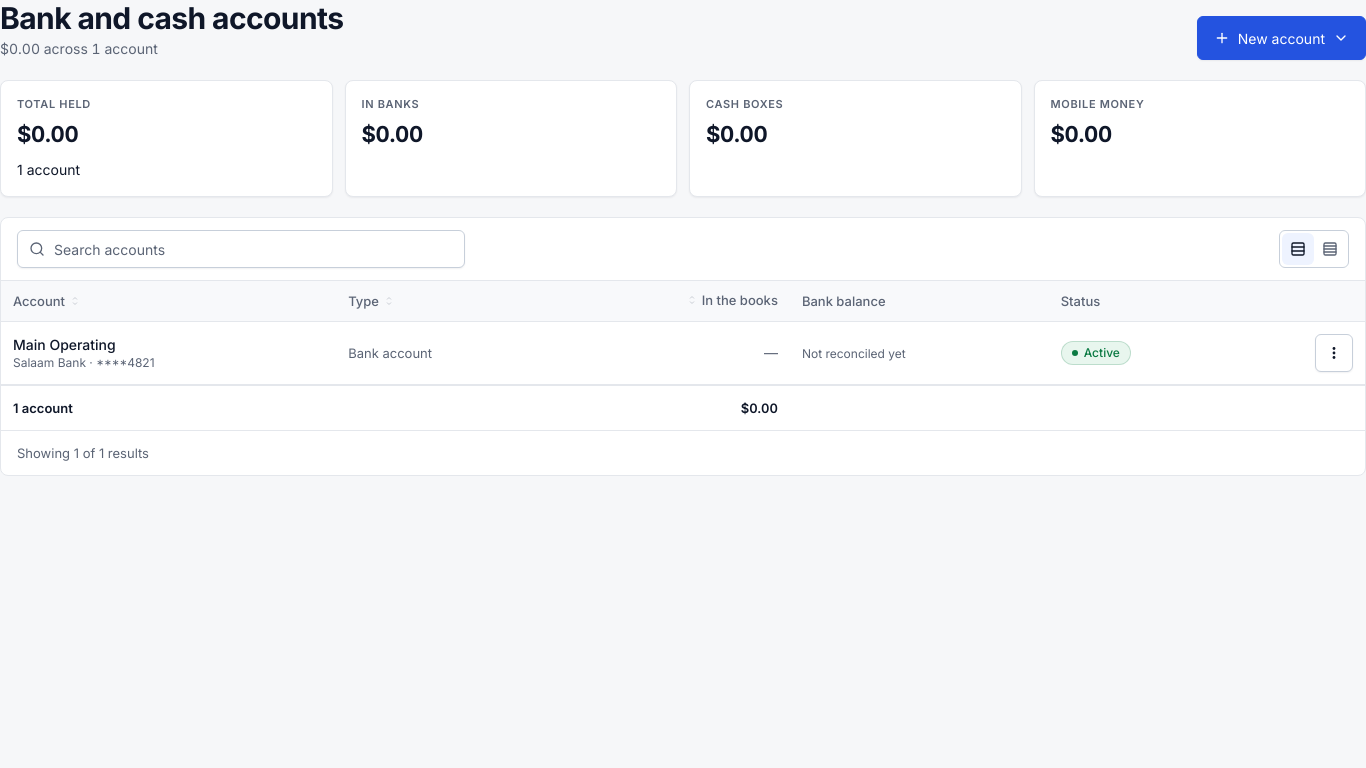
Test case: configure form › explains a chart with no cash account instead of an empty picker
Click the button "New account": x=1281, y=38 [1197,16,1365,60]
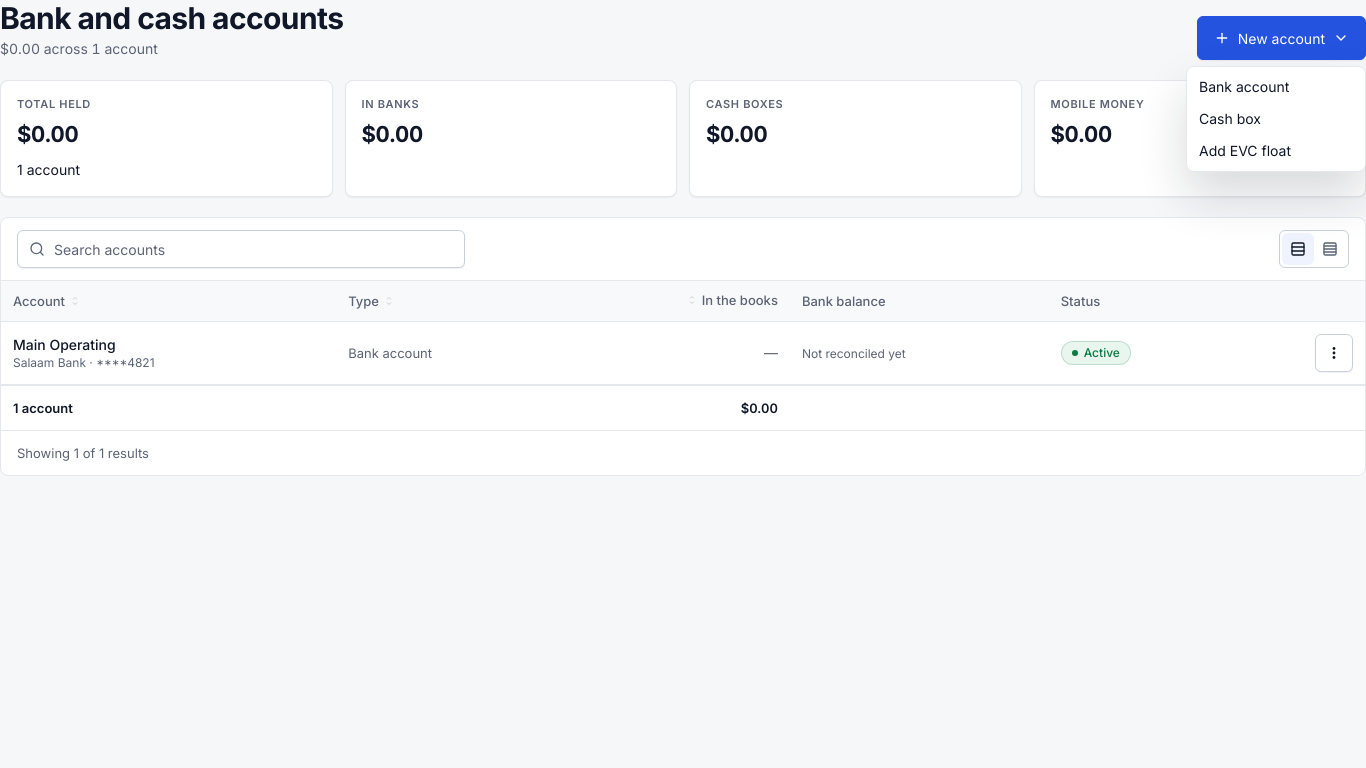
Click the menu item "Bank account": x=1244, y=86 [1199,78,1289,95]
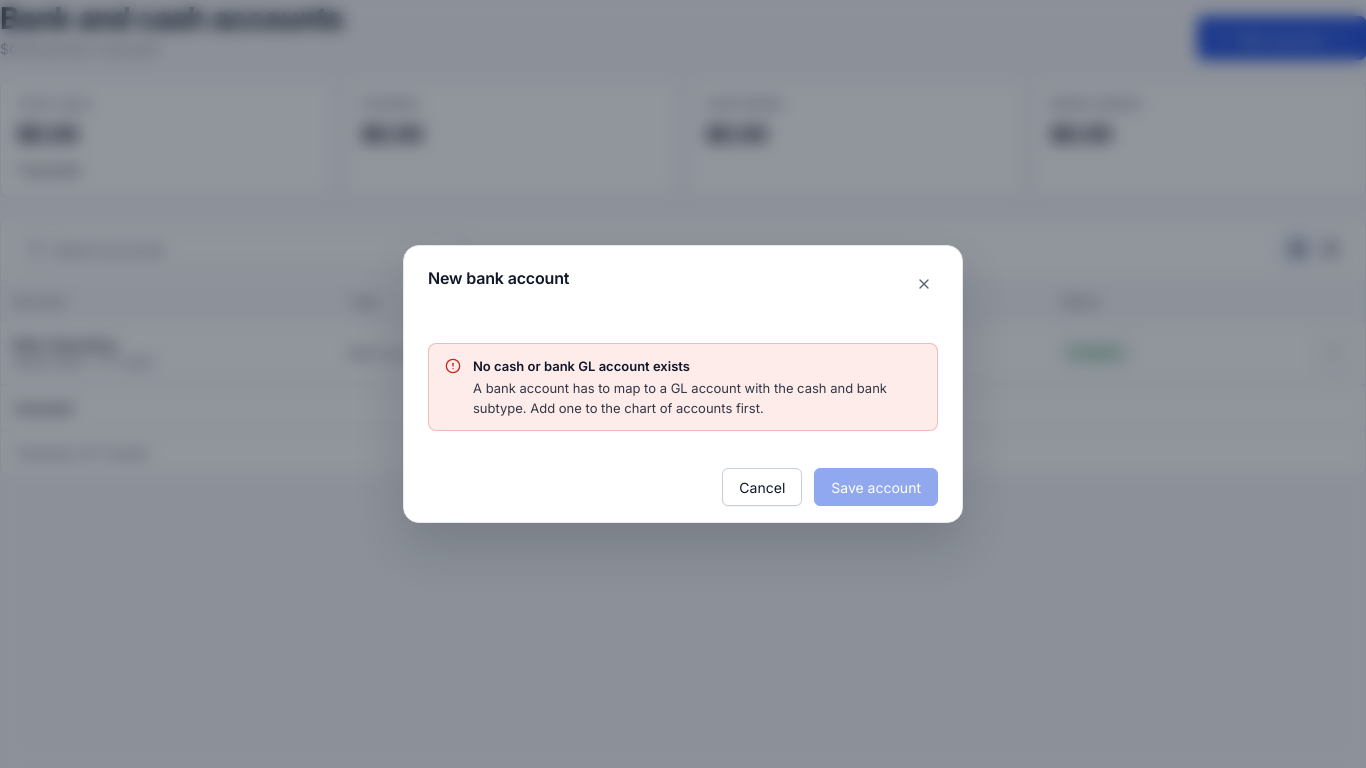
Check: the text "No cash or bank GL account exists" is shown, box [473,358,690,374]
